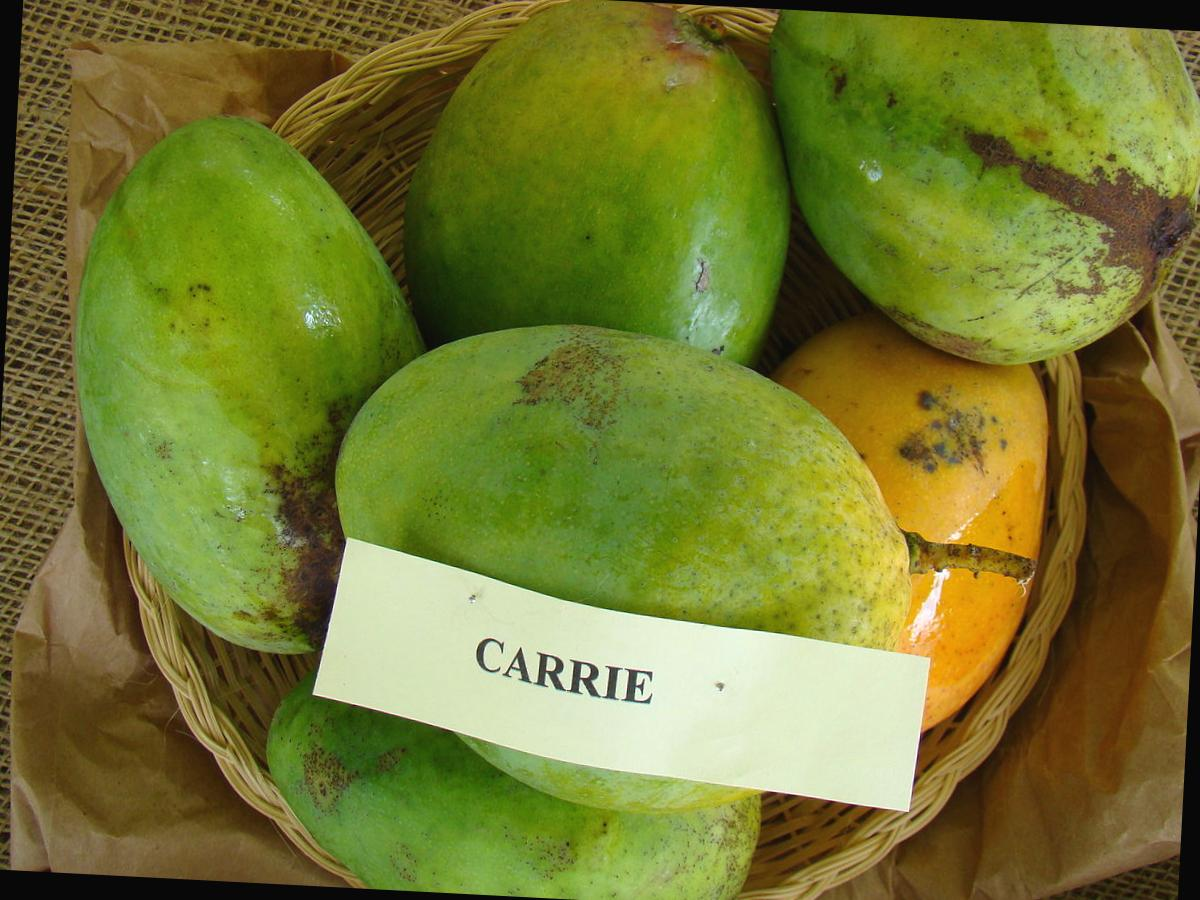Mango Unripe: (57, 98, 442, 665), (368, 23, 836, 394), (740, 10, 1200, 371), (293, 278, 296, 286)
